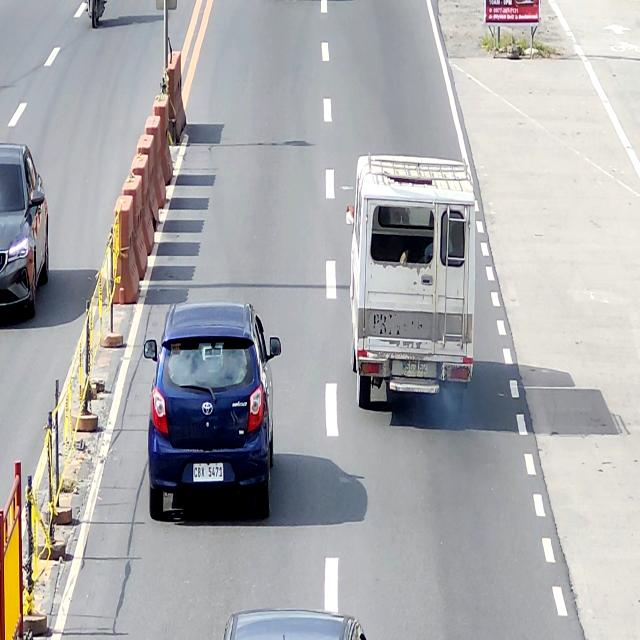Car: (346, 154, 476, 417), (141, 301, 283, 514), (0, 140, 52, 325)
License-Plate: (192, 462, 225, 483), (400, 359, 429, 377)
